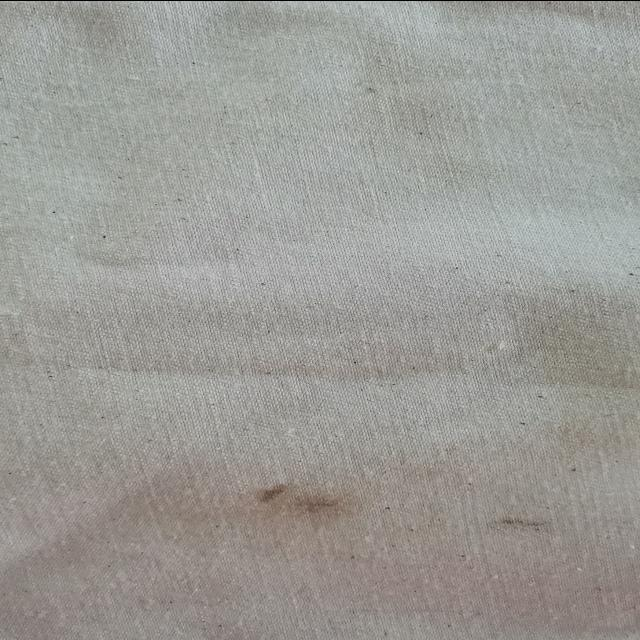taaaches: (235, 480, 362, 528), (484, 511, 561, 536)
